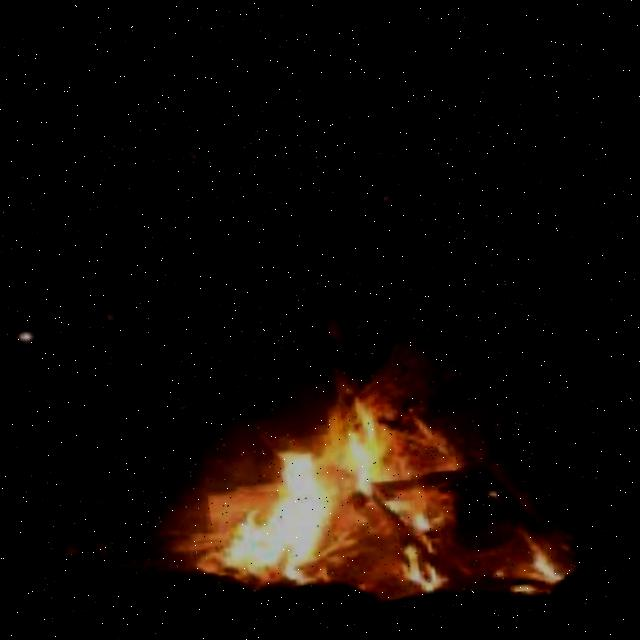fire: (171, 340, 569, 640)
